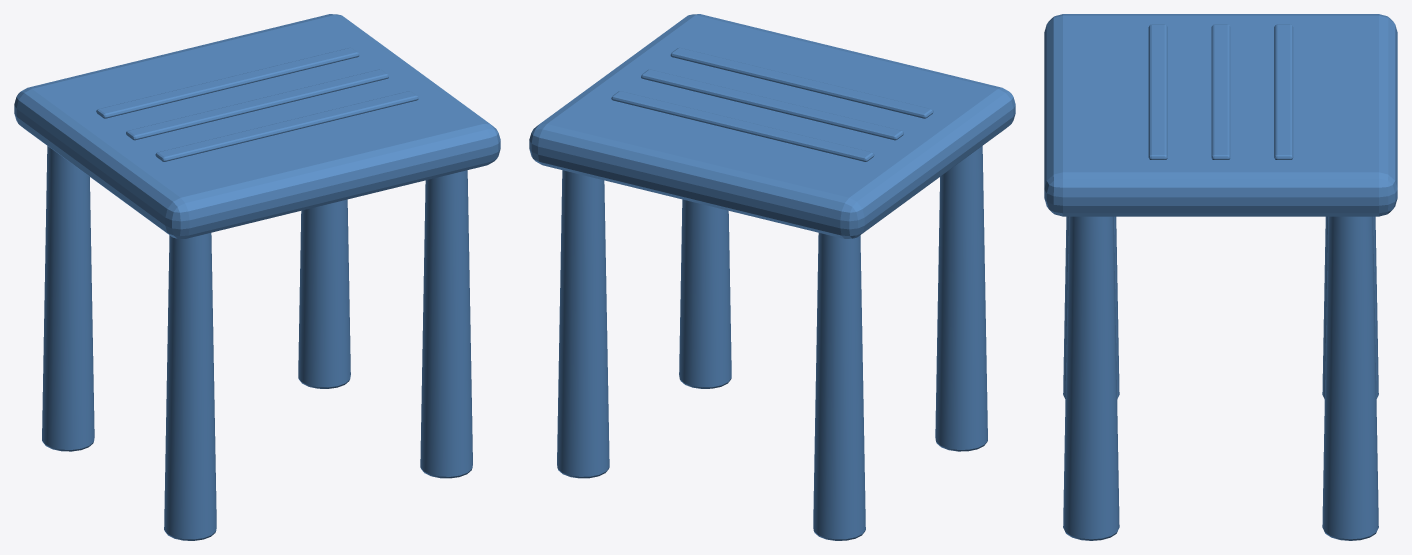
Rendered from GheNhua_Nhim.glb.
3 renders of one model, left to right at view 1: azimuth 30°, elevation 25°; view 2: azimuth 150°, elevation 25°; view 3: azimuth 270°, elevation 25°, orthographic. The views are drawn at different scales.
Parts seen in each view (by area): view 1: geometry_0; view 2: geometry_0; view 3: geometry_0.
Part boxes in pixels (x1,y1,x2,y2): geometry_0: (14,14,500,540); geometry_0: (529,14,1015,540); geometry_0: (1044,14,1397,540).
Size of the model in its own units: 0.26 by 0.263 by 0.2252.
